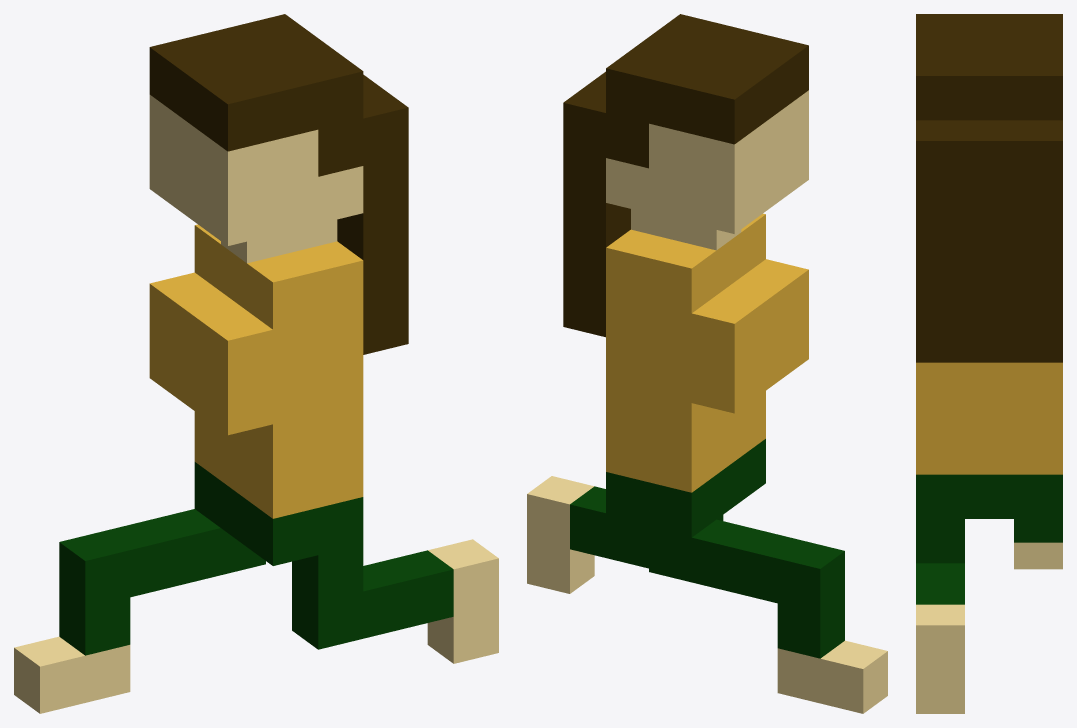
Rendered from woman-1-torso_walk.obj.
The picture shows the model from 3 angles, left to right: view 1: azimuth 30°, elevation 25°; view 2: azimuth 150°, elevation 25°; view 3: azimuth 270°, elevation 25°; orthographic projection. The views are drawn at different scales.
Parts seen in each view (by area): view 1: torso_walk; view 2: torso_walk; view 3: torso_walk.
Part boxes in pixels (x1,y1,x2,y2): torso_walk: [14, 14, 498, 713]; torso_walk: [527, 14, 887, 713]; torso_walk: [916, 14, 1062, 713].
Bounding box in the file's own units: 0.9 × 1.3 × 0.3.
1 material, 1 textured.
